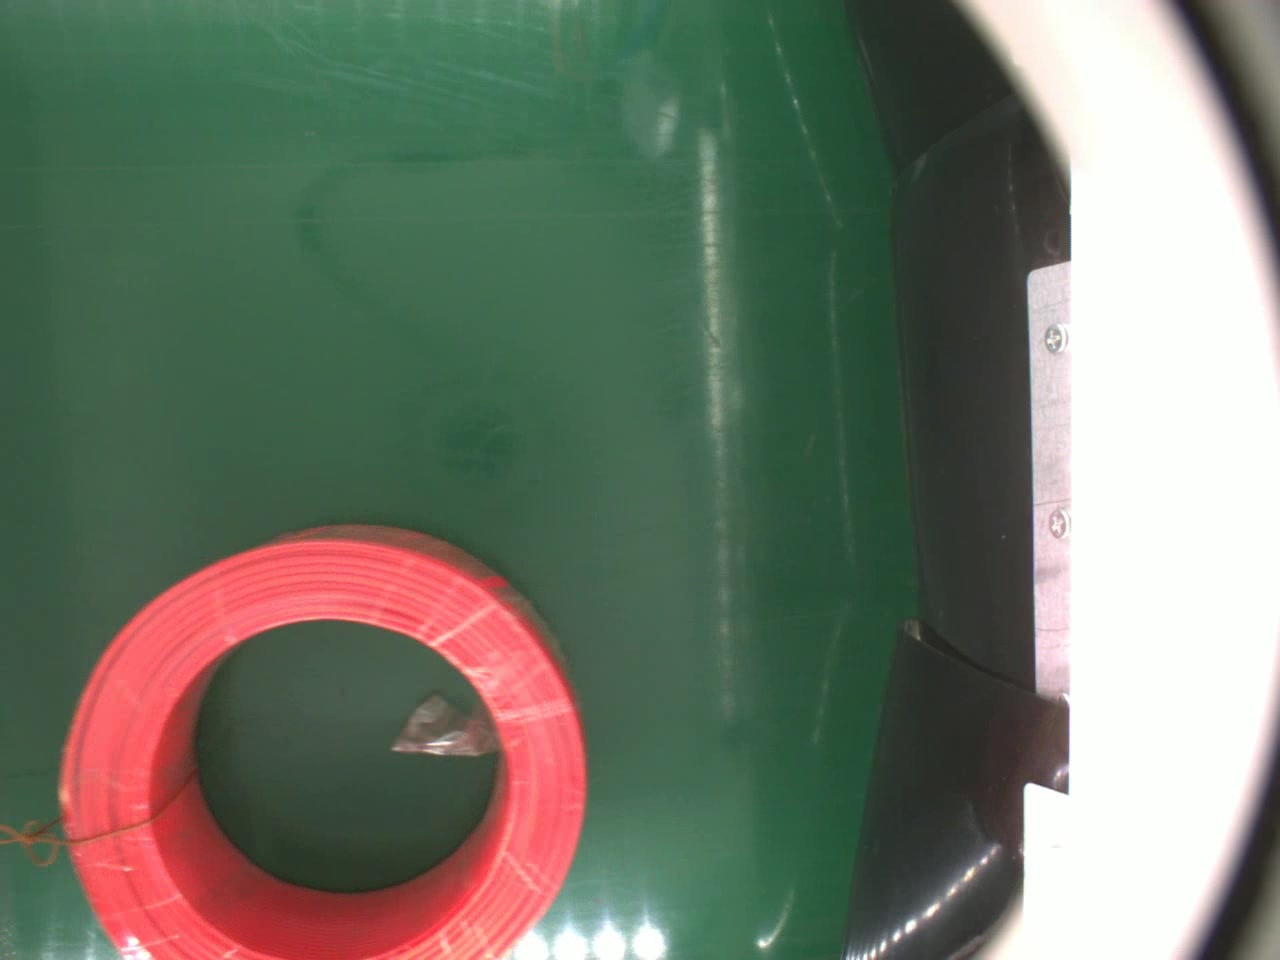red: (60, 518, 593, 960)
